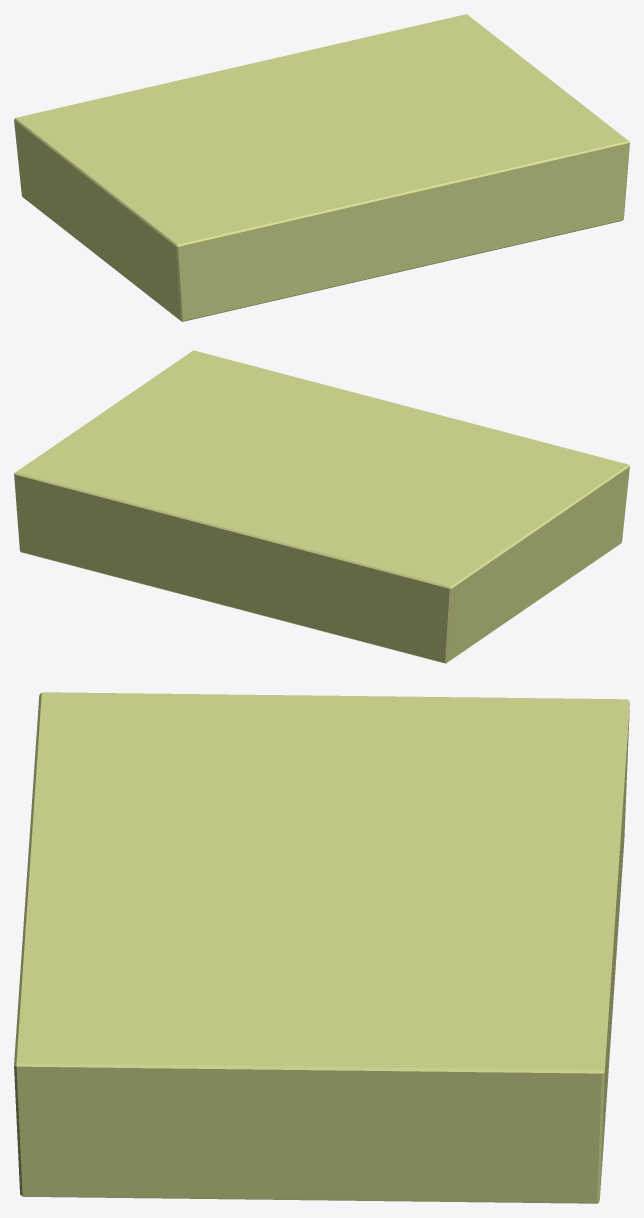
File: file_box_1_cover.fbx
3 views of the same model, one above another, from view 1: azimuth 30°, elevation 25°; view 2: azimuth 150°, elevation 25°; view 3: azimuth 270°, elevation 25° (orthographic). The views are drawn at different scales.
Visible parts, largest first — view 1: file_box_1_cover; view 2: file_box_1_cover; view 3: file_box_1_cover.
Part boxes in pixels (x1,y1,x2,y2): file_box_1_cover: [14, 14, 629, 321]; file_box_1_cover: [14, 350, 629, 663]; file_box_1_cover: [14, 692, 629, 1203].
Bounding box in the file's own units: 0.4852 × 0.0824 × 0.331.
